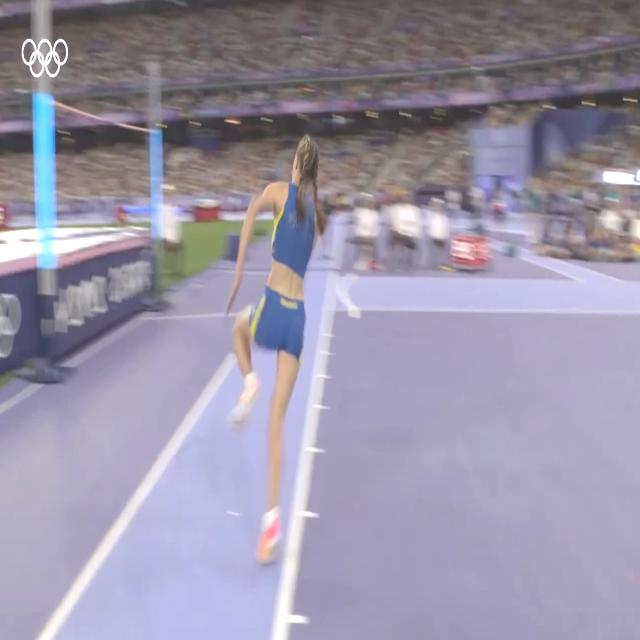run: (221, 139, 325, 564)
